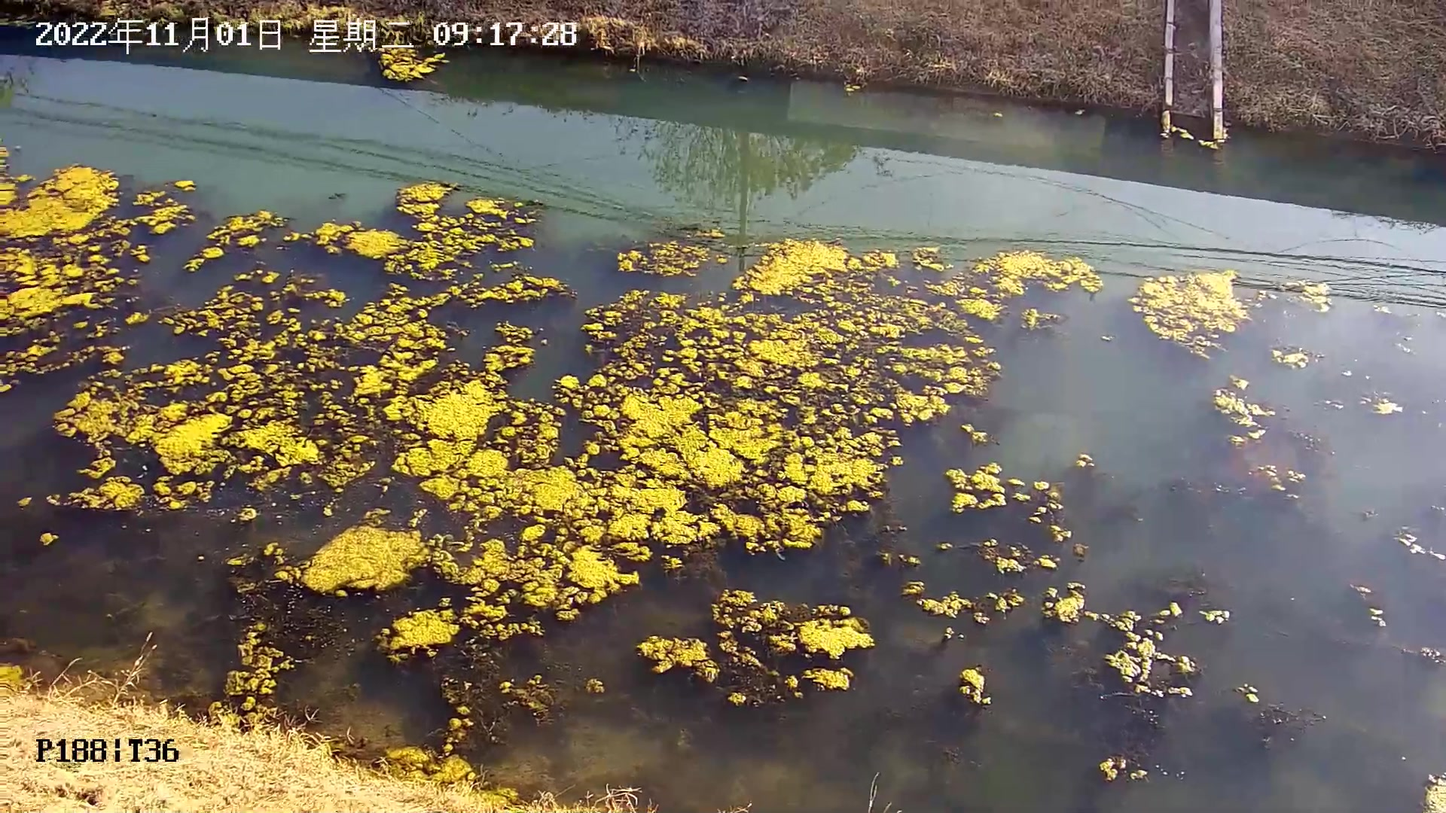floater: (2, 144, 877, 767), (882, 425, 1232, 718), (879, 245, 1106, 422), (1126, 265, 1247, 355), (1242, 682, 1329, 751), (1214, 376, 1268, 446), (1258, 273, 1333, 318), (1258, 453, 1313, 511), (378, 44, 450, 81), (1099, 756, 1169, 786), (1374, 306, 1418, 352), (1400, 523, 1446, 566), (1271, 345, 1324, 373), (1354, 584, 1389, 625), (1360, 390, 1400, 422), (1409, 640, 1446, 670), (1420, 772, 1446, 813)
